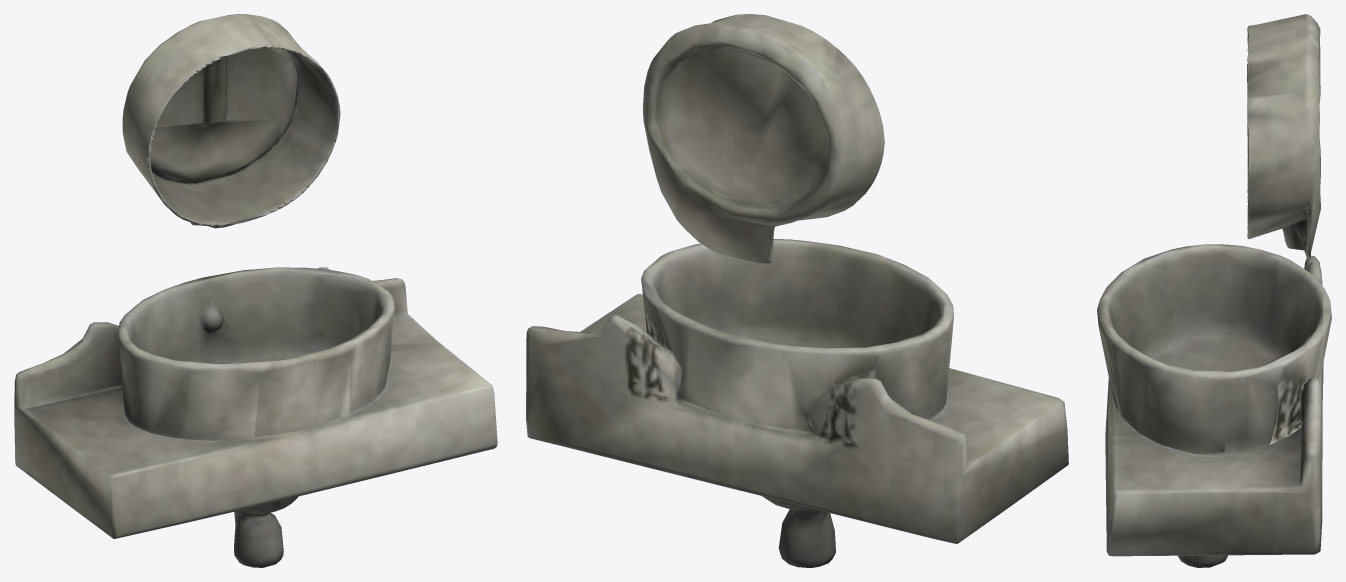
Rendered from plain-white-painted-washbasin-v002.glb.
3 views of the same model, side by side, from view 1: azimuth 30°, elevation 25°; view 2: azimuth 150°, elevation 25°; view 3: azimuth 270°, elevation 25° (orthographic). The views are drawn at different scales.
Parts seen in each view (by area): view 1: plain-white-painted-washbasin; view 2: plain-white-painted-washbasin; view 3: plain-white-painted-washbasin.
Part boxes in pixels (x1=…): plain-white-painted-washbasin: x1=14, y1=14, x2=497, y2=567; plain-white-painted-washbasin: x1=526, y1=14, x2=1068, y2=567; plain-white-painted-washbasin: x1=1097, y1=14, x2=1331, y2=567.
Bounding box in the file's own units: 0.6473 × 0.8084 × 0.3204.
1 material, 1 textured.
